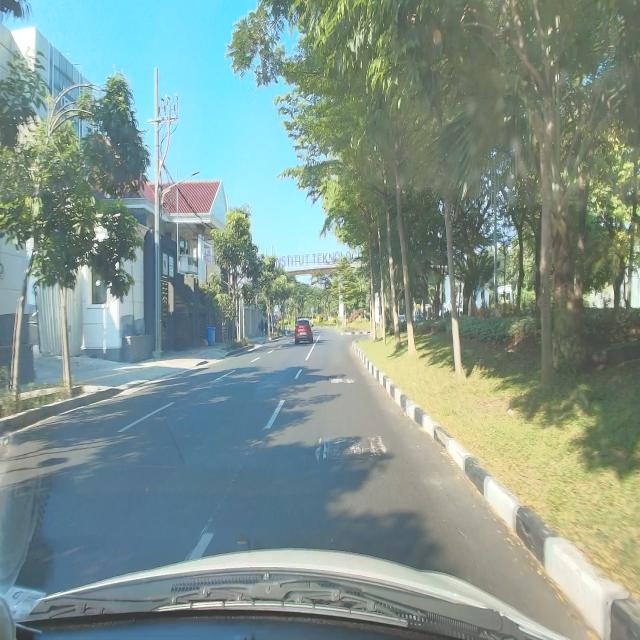car: (294, 318, 314, 345)
